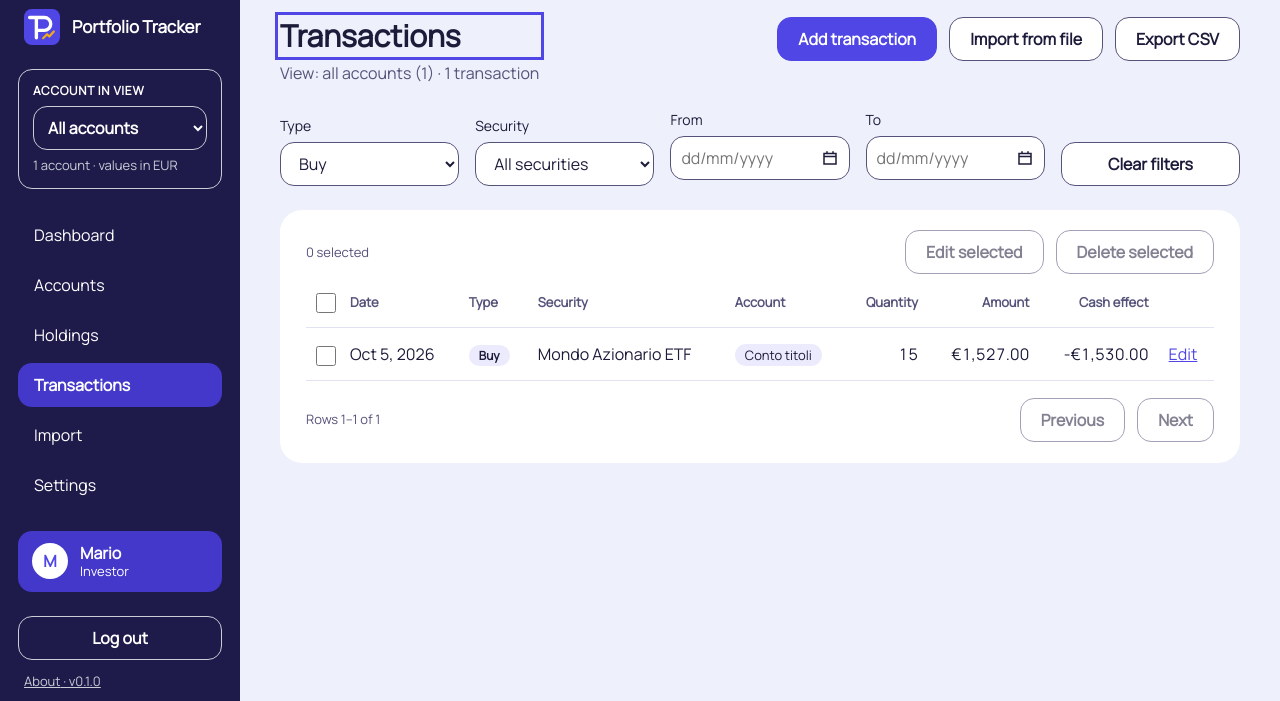
edit page › a conflict of the edited transaction is described as typed
This screenshot has width=1280, height=701.
Click the link with aria-label "Edit: Buy, Mondo Azionario ETF, Oct 5, 2026".
click(1183, 354)  # box [1169, 344, 1197, 366]
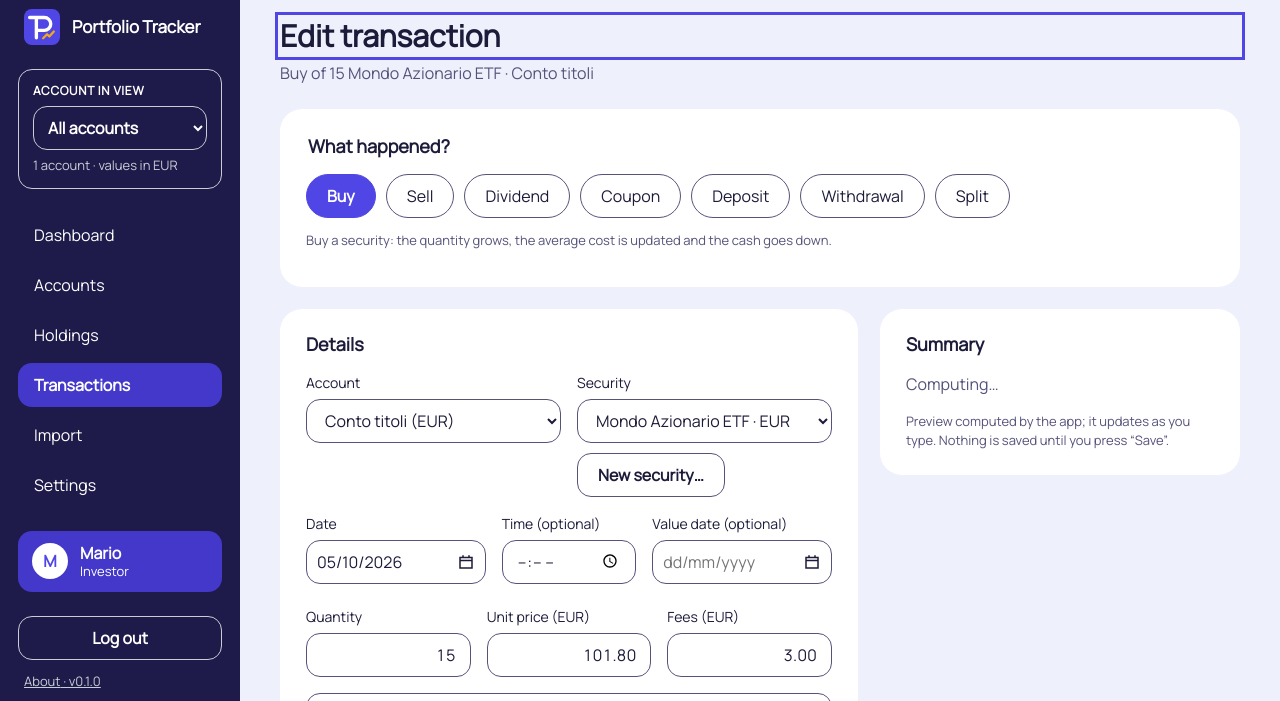
Result: the heading "Edit transaction" is shown at [280, 15, 500, 56]
Result: the field labelled "Quantity" holds "15" at [306, 632, 471, 676]
Click the radio button labelled "Sell".
click(420, 196)  # box [386, 174, 454, 218]
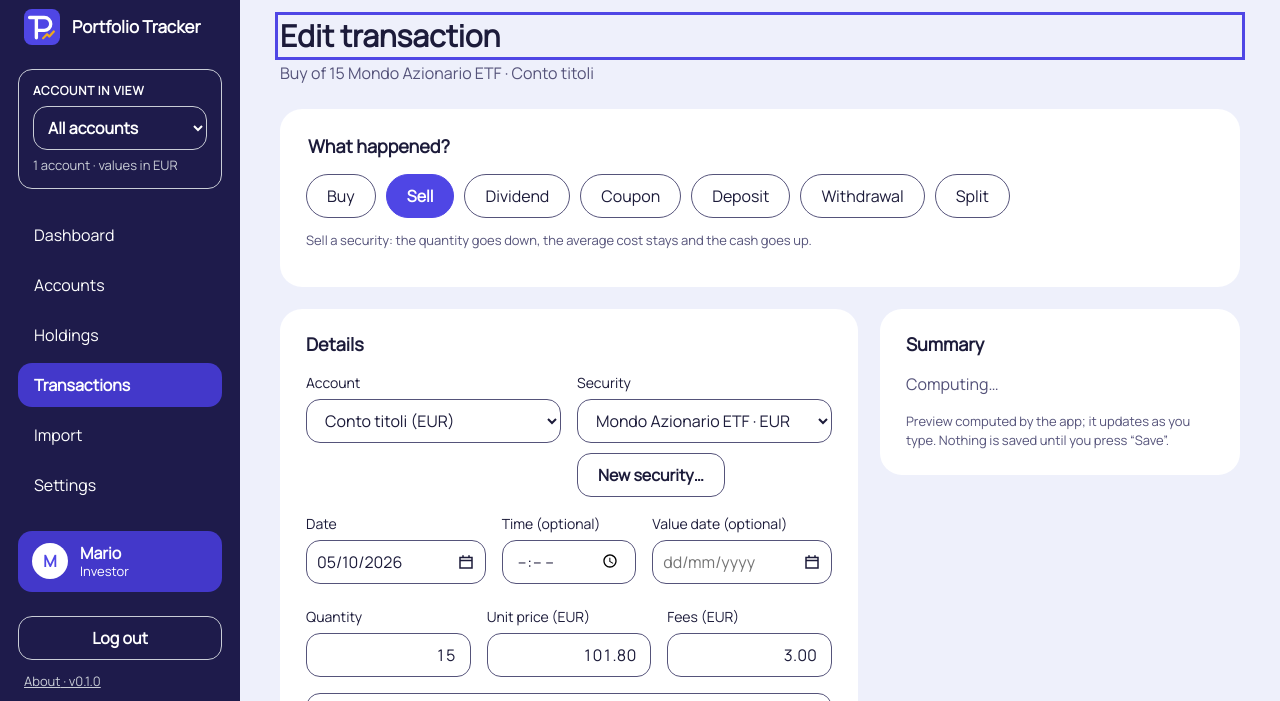
Replace the text in the field labelled "Quantity" with "5" at (388, 654), box [306, 632, 471, 676]
(page scrolled)
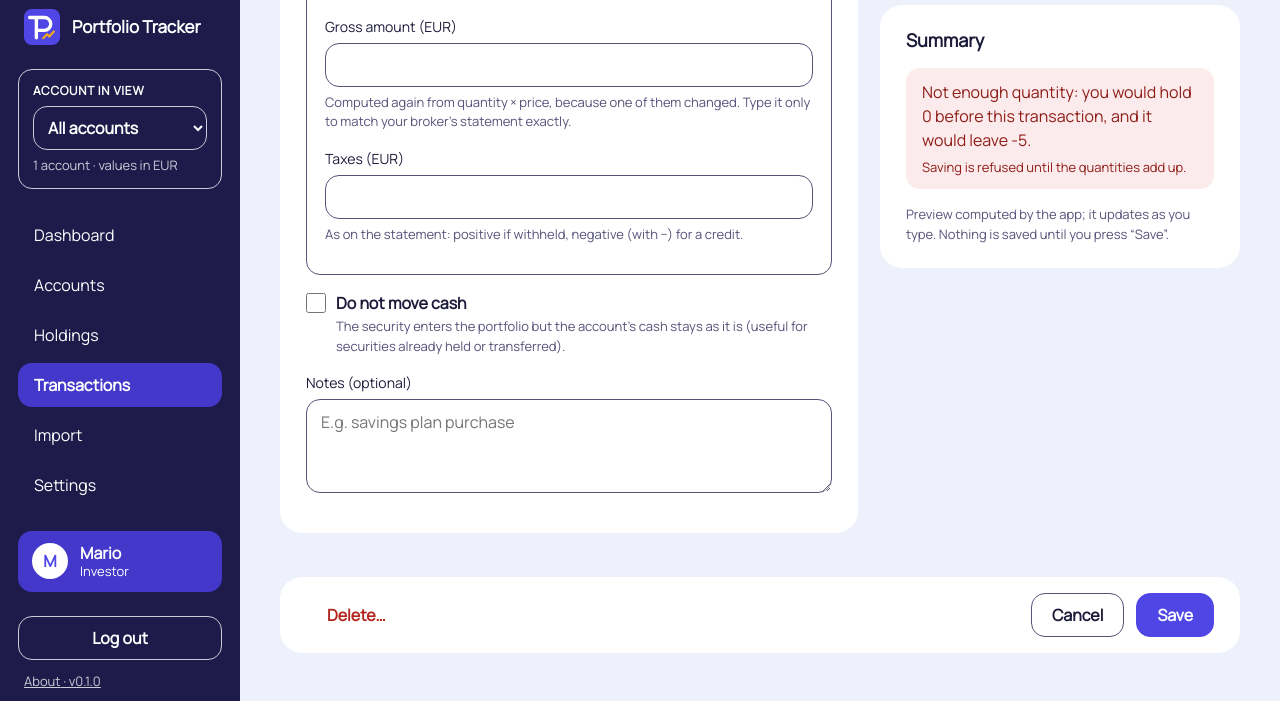
Result: the text "Not enough quantity: you would hold 0 before this transaction, and it would leave -5." is shown at [922, 80, 1192, 150]
Click the button "Save".
click(1175, 615)  # box [1136, 593, 1214, 637]
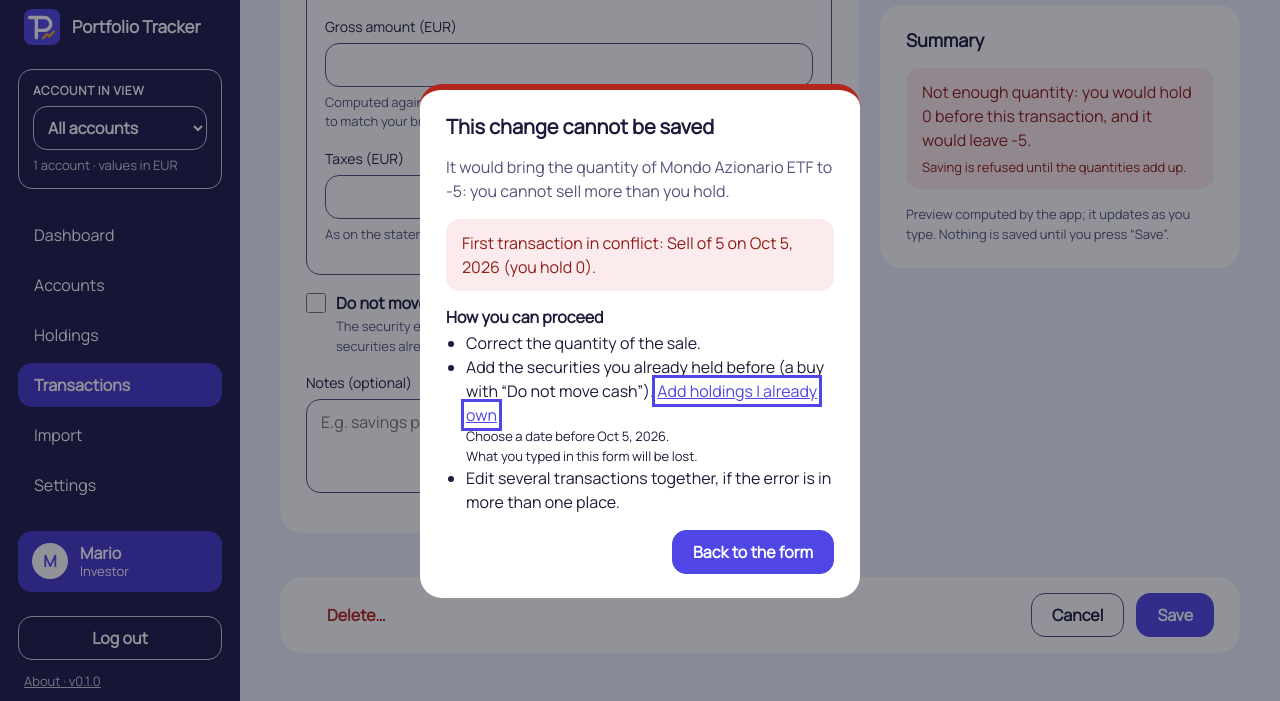
Result: the dialog "This change cannot be saved" shows "First transaction in conflict: Sell of 5 on Oct 5, 2026 (you hold 0)." at [462, 232, 793, 278]
